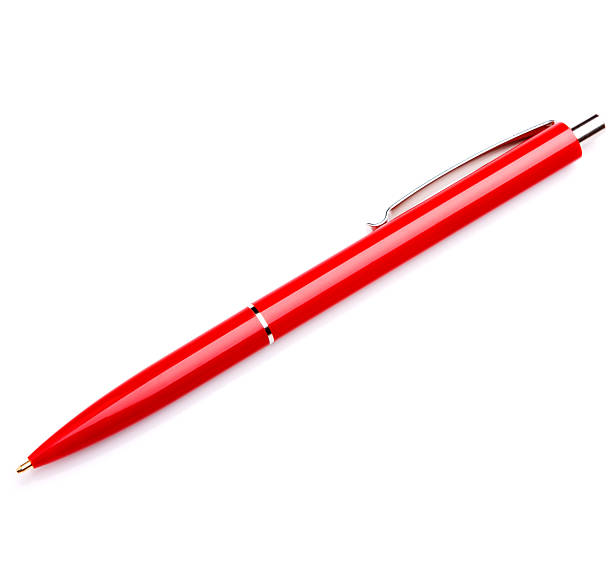pen: (5, 89, 610, 483)
